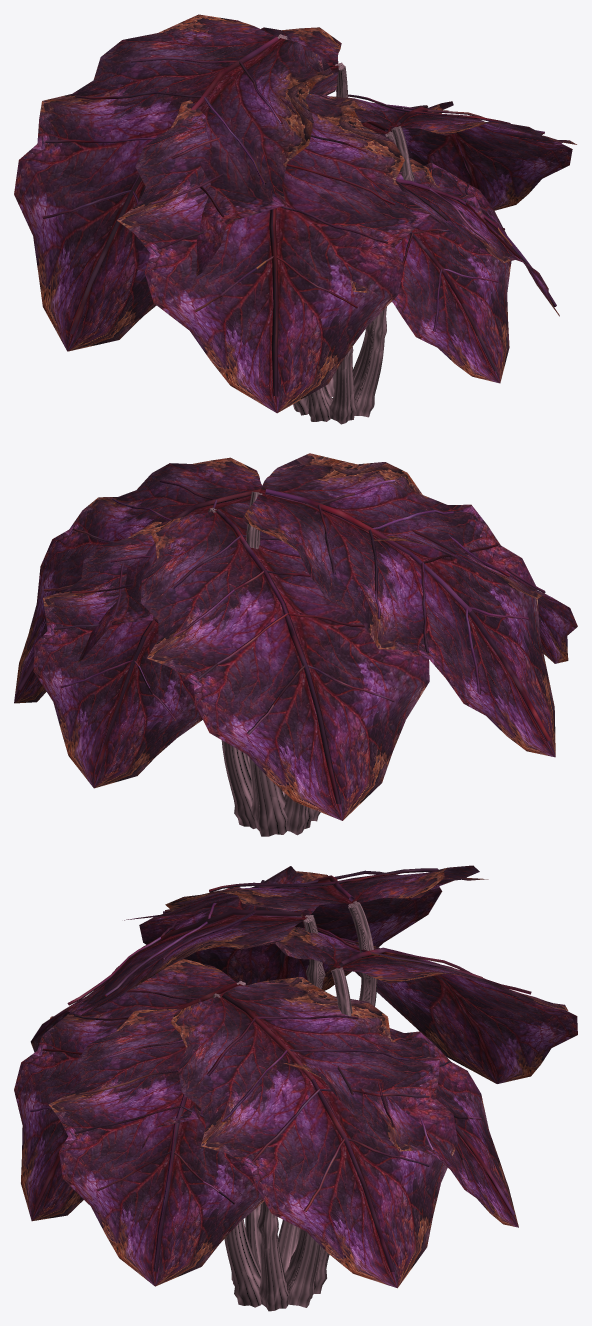
The model's file is giantleaf_02.glb.
3 renders of one model, top to bottom at view 1: azimuth 30°, elevation 25°; view 2: azimuth 150°, elevation 25°; view 3: azimuth 270°, elevation 25°, orthographic. The views are drawn at different scales.
Parts seen in each view (by area): view 1: export; view 2: export; view 3: export.
Part boxes in pixels (x1=…): export: x1=14, y1=14, x2=576, y2=424; export: x1=14, y1=453, x2=577, y2=836; export: x1=14, y1=865, x2=577, y2=1311.
Bounding box in the file's own units: 2.44 × 1.64 × 2.17.
Materials: 3 (3 with a texture image).
